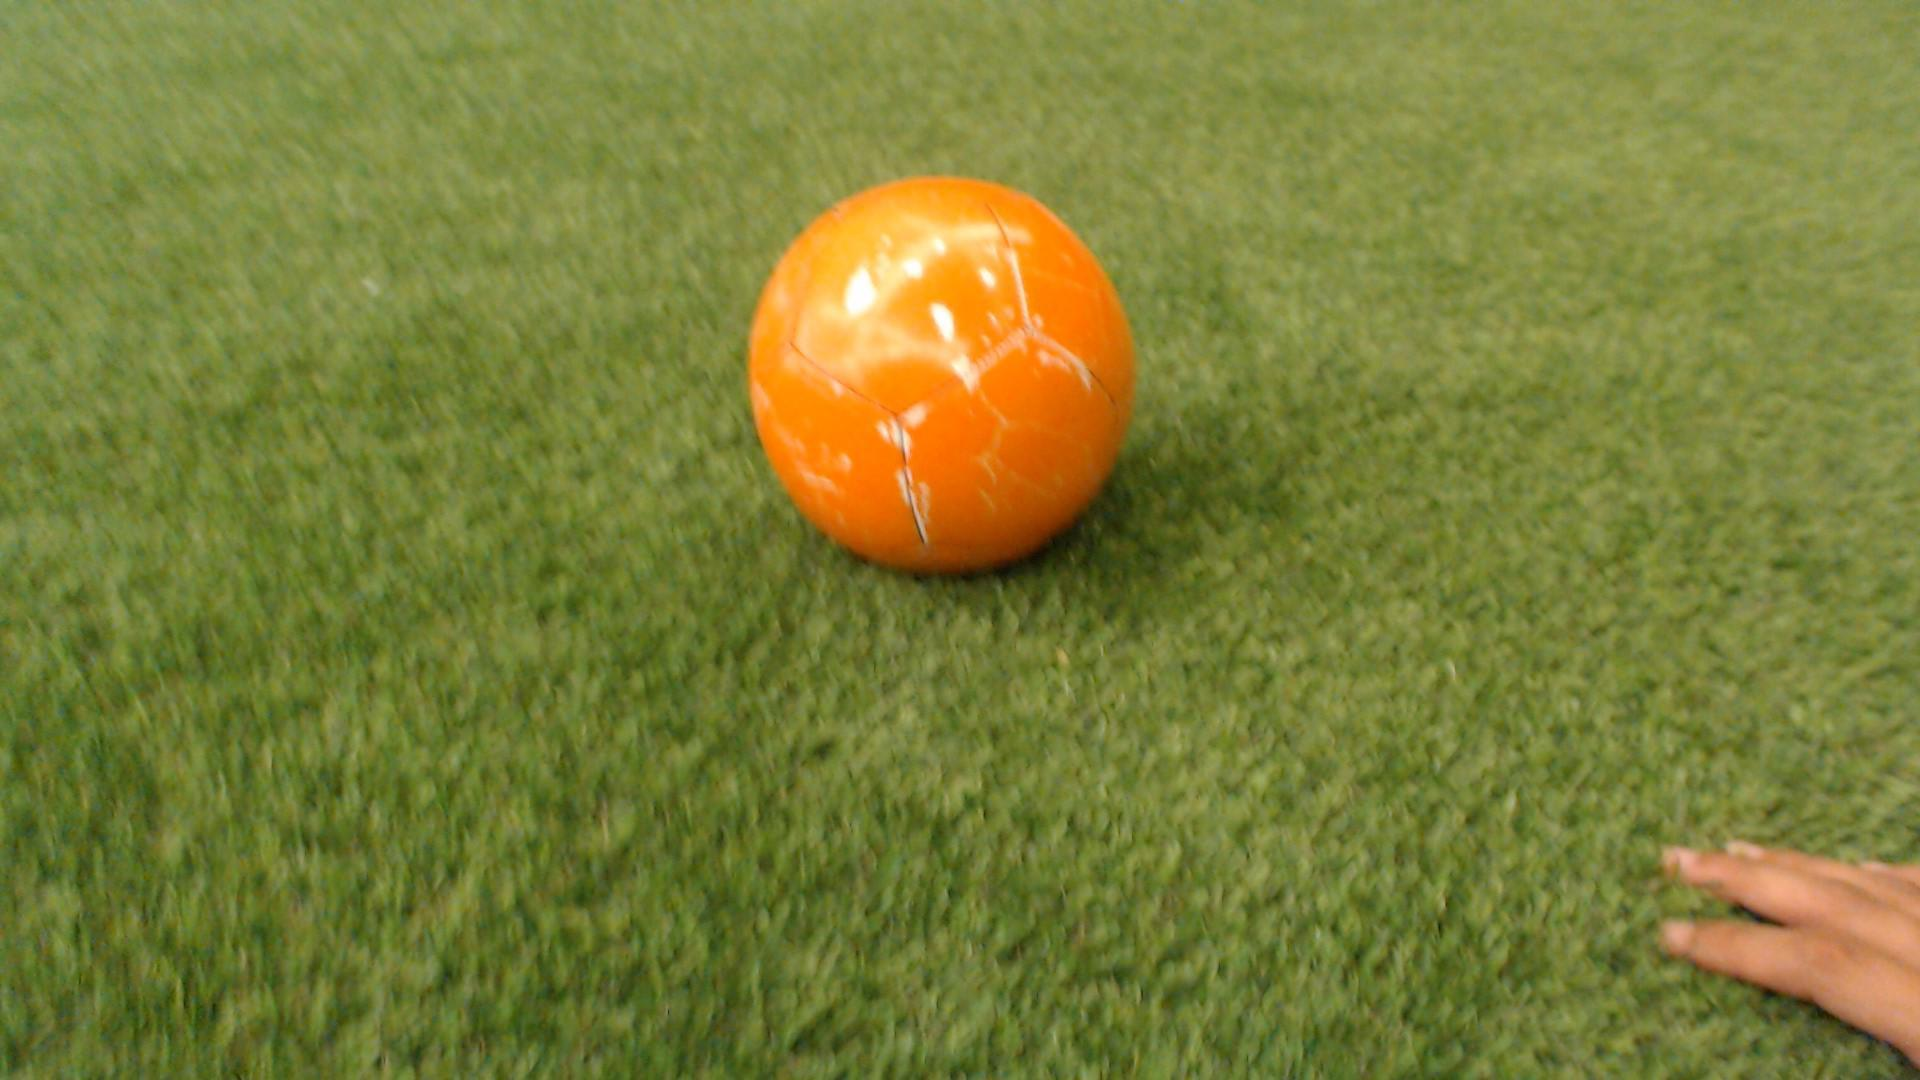bola: (728, 156, 1176, 621)
